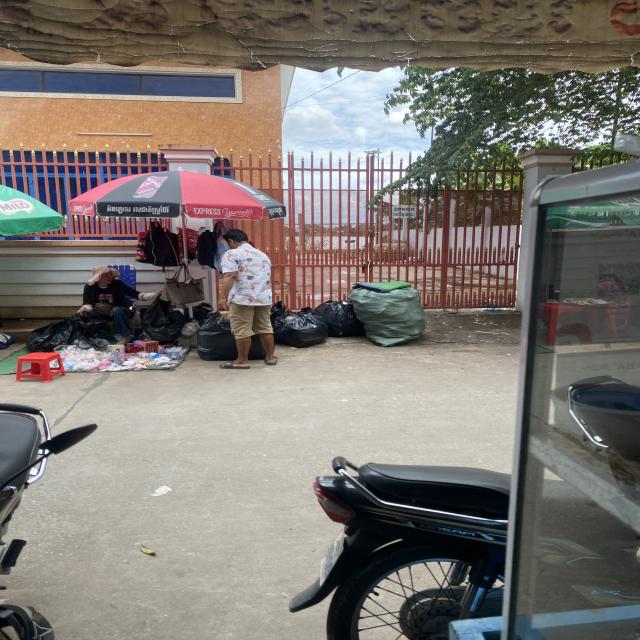1: (103, 203, 172, 216)
Yolov11kh: (391, 205, 417, 212), (390, 212, 417, 218)
